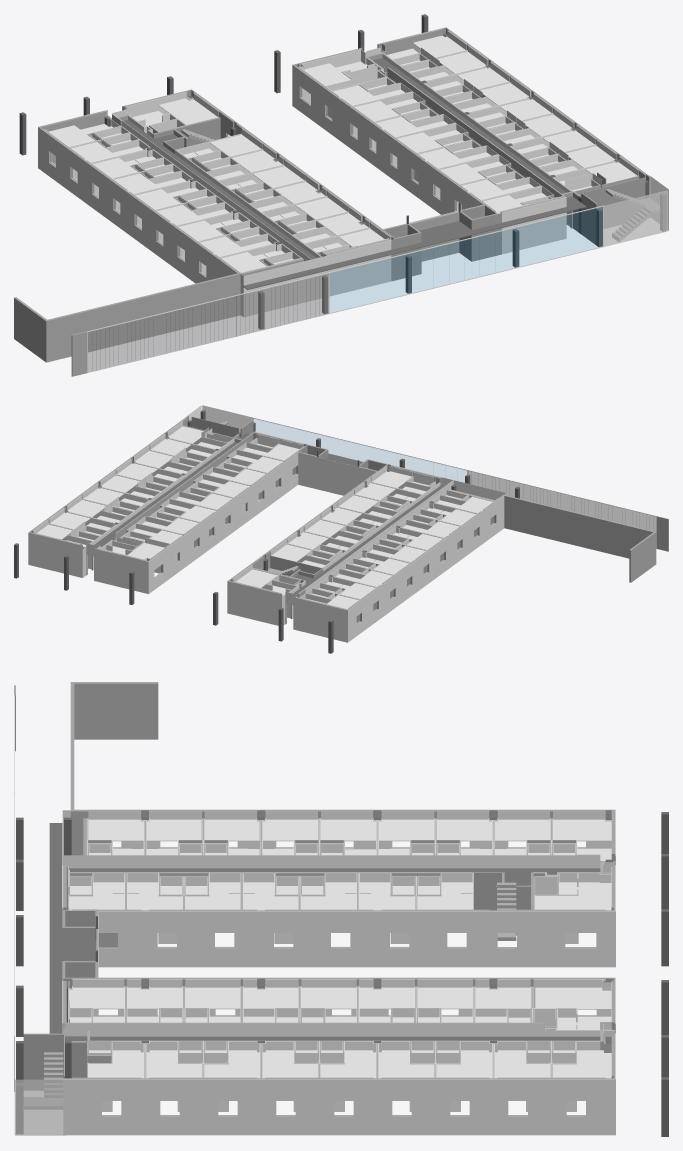
3 views of the same model, one above another, from view 1: azimuth 30°, elevation 25°; view 2: azimuth 150°, elevation 25°; view 3: azimuth 270°, elevation 25° (orthographic). The views are drawn at different scales.
Visible parts, largest first — view 1: Fake; view 2: Fake; view 3: Fake.
Boxes of the visible parts, x1,y1,x2,y2 form: Fake: [14, 14, 668, 376]; Fake: [14, 405, 668, 653]; Fake: [14, 682, 668, 1136].
Bounding box in the file's own units: 48.61 × 3.97 × 33.85.
